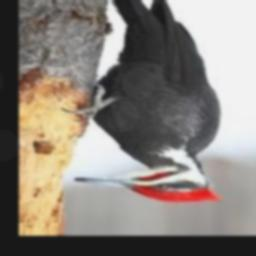Woodpecker: (62, 0, 219, 202)
